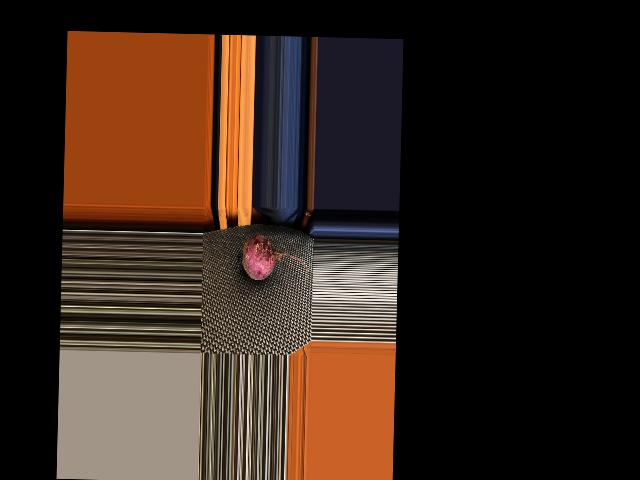beet: (235, 233, 308, 280)
